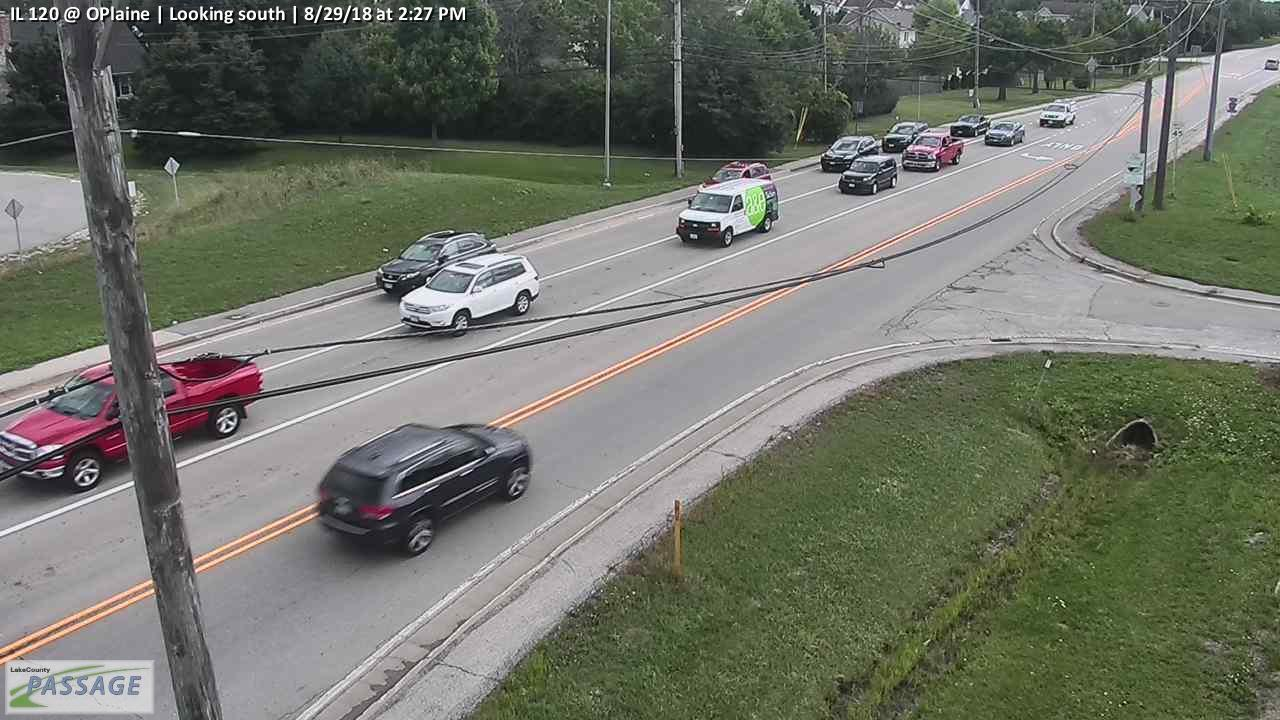SUV: (310, 418, 536, 556), (396, 251, 540, 335), (671, 179, 780, 248), (834, 154, 900, 195)
Sedan: (375, 230, 499, 299), (686, 161, 775, 206), (818, 135, 878, 174), (879, 119, 929, 152), (981, 119, 1026, 147), (1037, 101, 1078, 126)
Truck: (2, 352, 265, 484), (899, 131, 966, 171), (945, 112, 990, 137)
